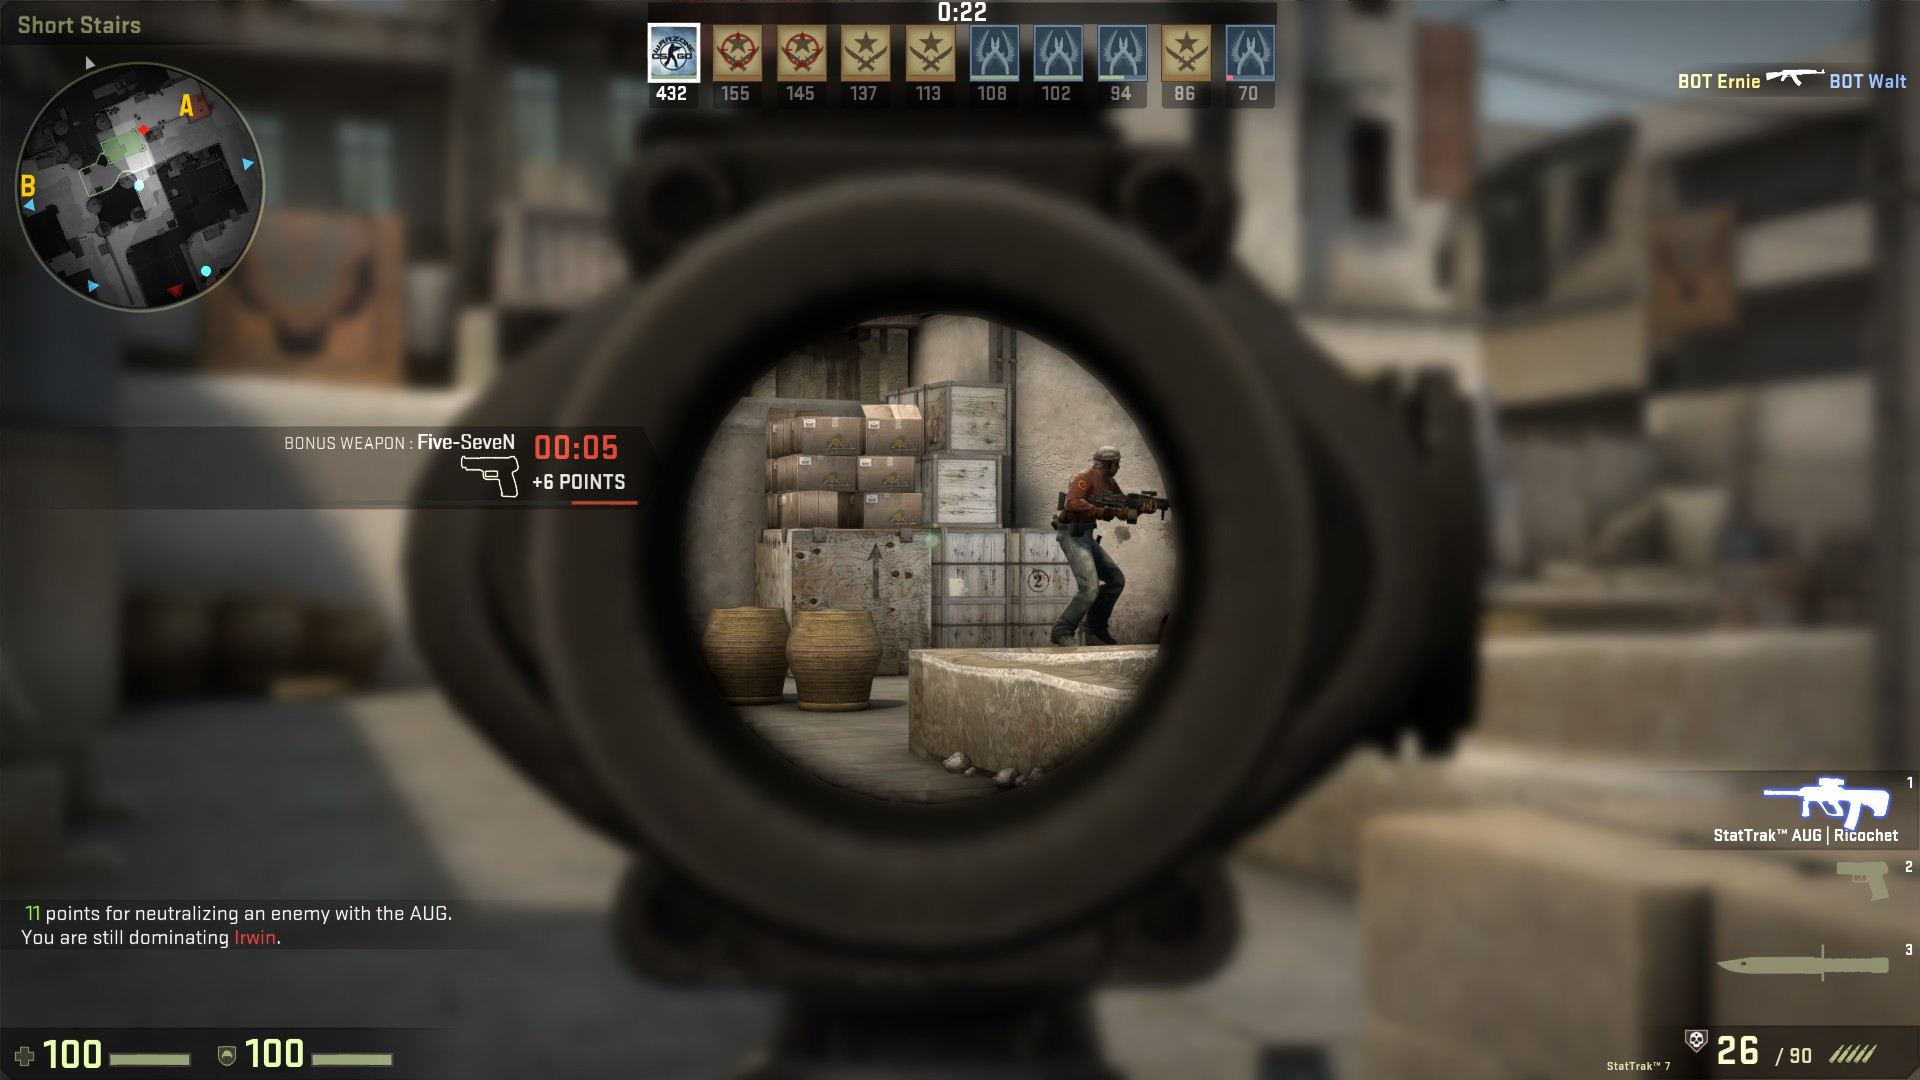t: (1050, 440, 1131, 645)
th: (1091, 442, 1126, 479)
